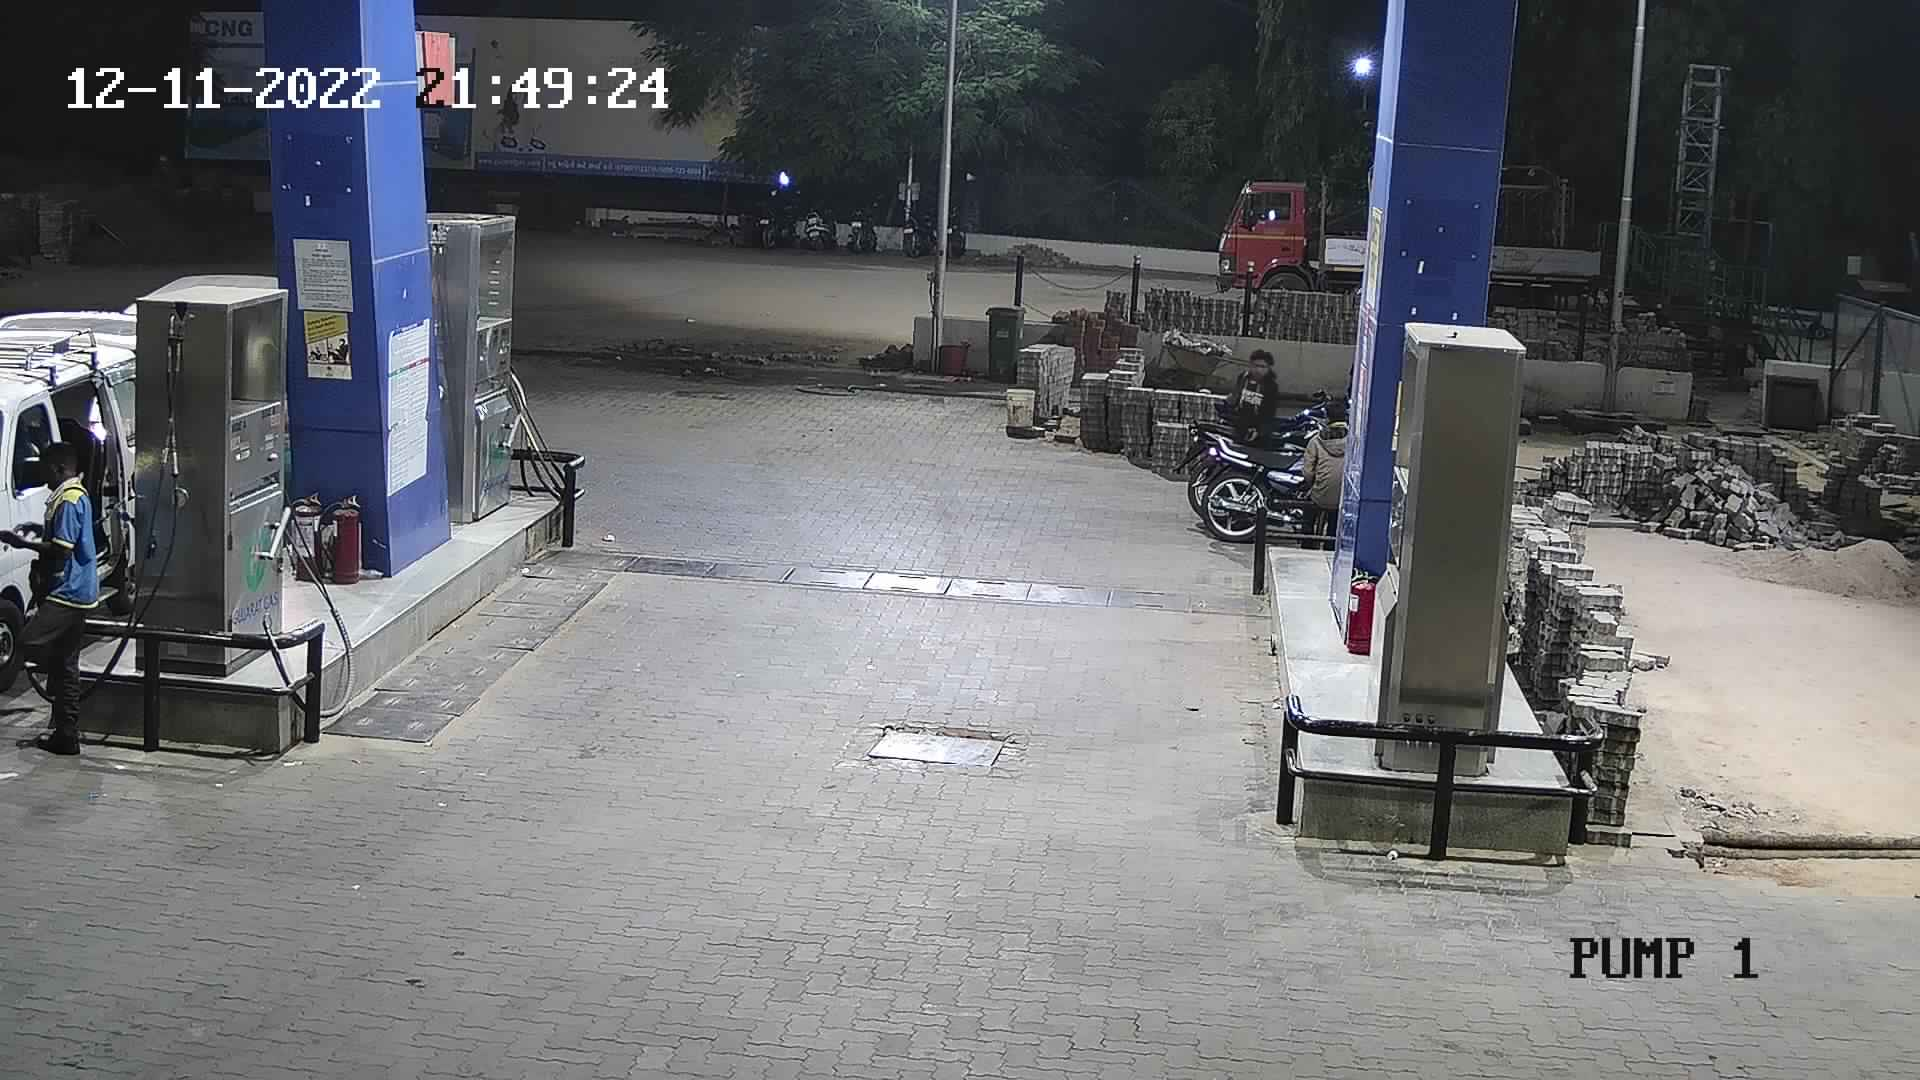Bike: (1172, 344, 1354, 553), (746, 182, 810, 258), (840, 191, 893, 260), (893, 194, 942, 262), (796, 187, 840, 260)
Car: (1, 299, 146, 713), (115, 264, 281, 349)
HMV: (1207, 154, 1375, 311)
Others: (1, 431, 104, 761)
